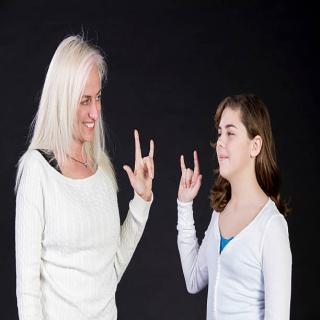I Love You: (118, 118, 164, 213), (172, 140, 204, 216)
